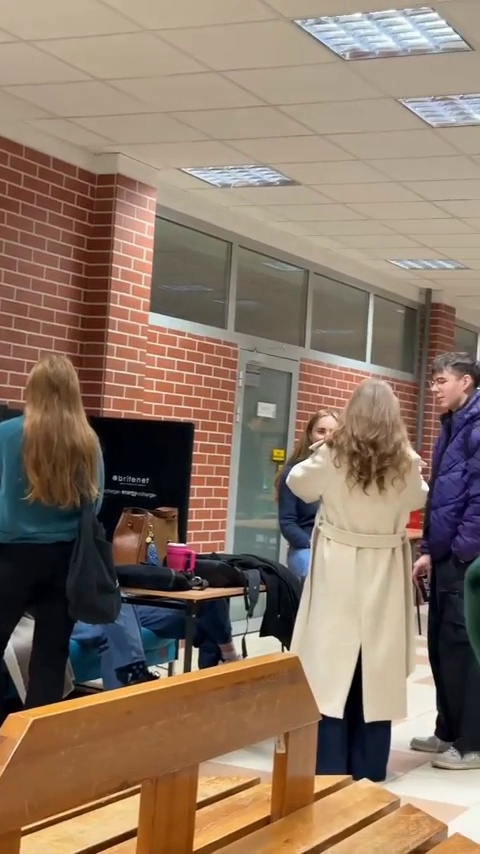no vest: (276, 362, 419, 723), (2, 350, 107, 710), (421, 341, 480, 731)
